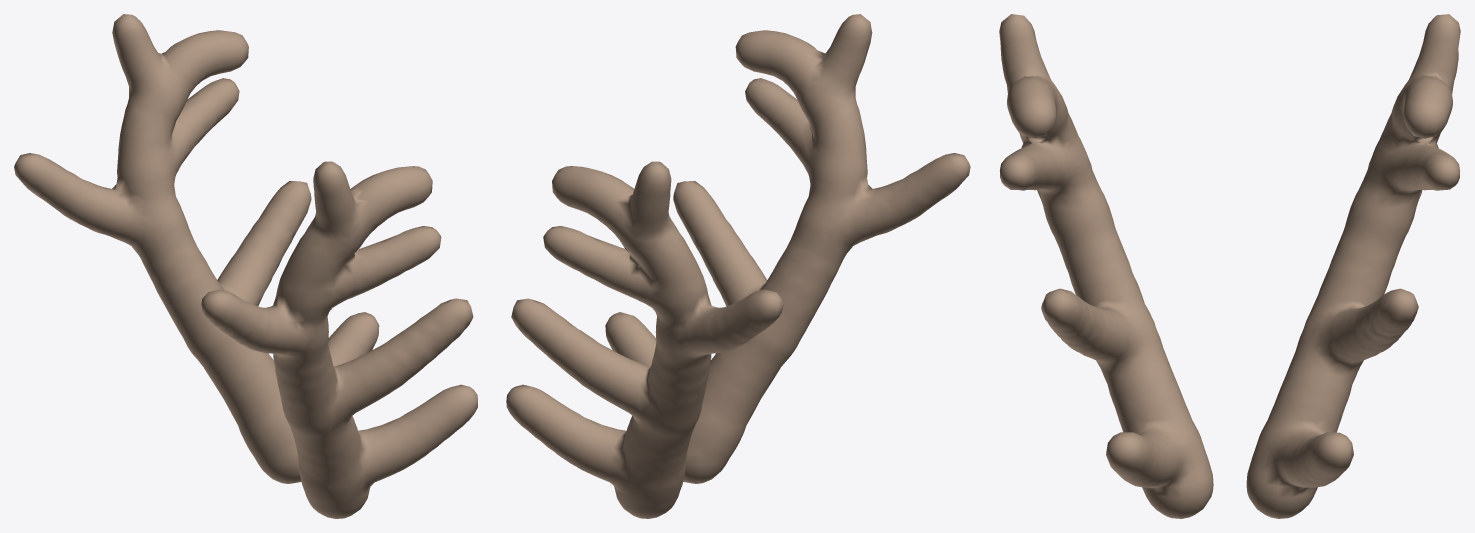
The model's file is reindeer202_adult.glb.
3 renders of one model, left to right at view 1: azimuth 30°, elevation 25°; view 2: azimuth 150°, elevation 25°; view 3: azimuth 270°, elevation 25°, orthographic. The views are drawn at different scales.
Visible parts, largest first — view 1: horn; view 2: horn; view 3: horn.
Boxes of the visible parts, bbox=[...] form: horn: bbox=[14, 14, 477, 518]; horn: bbox=[506, 14, 970, 518]; horn: bbox=[999, 14, 1460, 518].
Bounding box in the file's own units: 0.9927 × 1.29 × 1.18.
